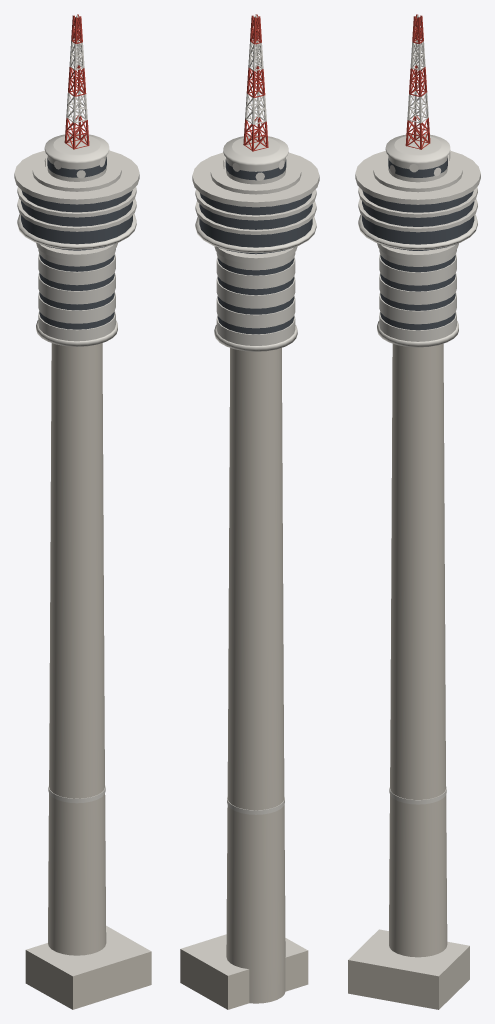
The model's file is johannesburg-hillbrow-tower.detail.glb.
3 views of the same model, side by side, from view 1: azimuth 30°, elevation 25°; view 2: azimuth 210°, elevation 25°; view 3: azimuth 330°, elevation 25° (orthographic).
Parts seen in each view (by area): view 1: Hillbrow Tower; view 2: Hillbrow Tower; view 3: Hillbrow Tower.
Boxes of the visible parts, x1=… form: Hillbrow Tower: x1=14, y1=14, x2=151, y2=1009; Hillbrow Tower: x1=180, y1=14, x2=319, y2=1009; Hillbrow Tower: x1=348, y1=14, x2=480, y2=1009.
Size of the model in its own units: 31.8 by 269 by 32.55.
